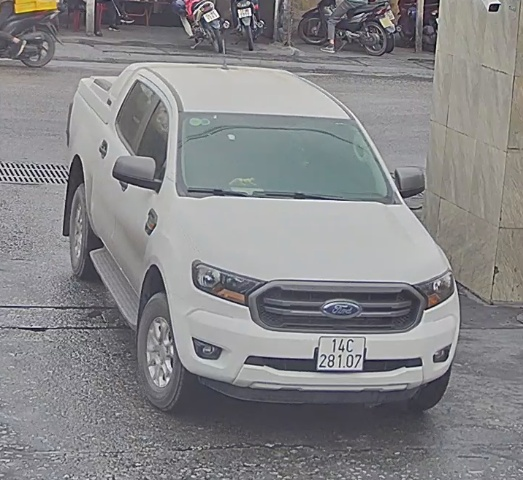vehicle plate: (313, 330, 367, 376)
